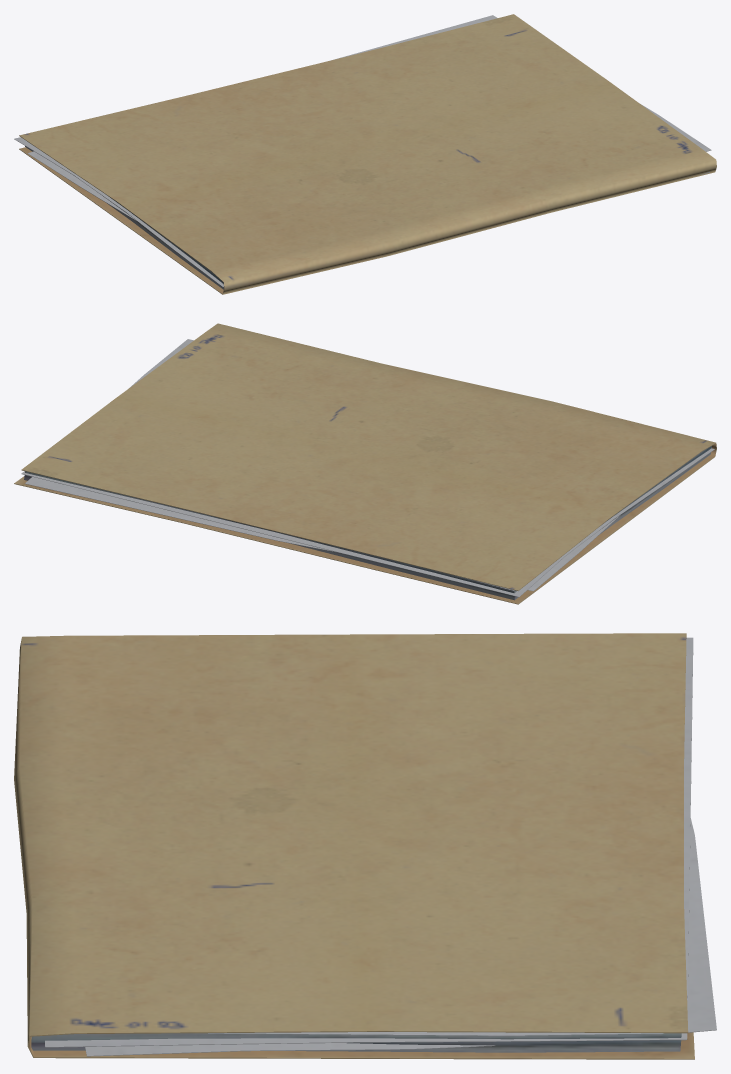
File: SM_Folder_Stack_01c.fbx
3 views of the same model, one above another, from view 1: azimuth 30°, elevation 25°; view 2: azimuth 150°, elevation 25°; view 3: azimuth 270°, elevation 25° (orthographic). The views are drawn at different scales.
Parts seen in each view (by area): view 1: SM_Folder_Stack_01c_LOD0; view 2: SM_Folder_Stack_01c_LOD0; view 3: SM_Folder_Stack_01c_LOD0.
Part boxes in pixels (box(x1,y1,x2,y2)): SM_Folder_Stack_01c_LOD0: box(14, 14, 716, 294); SM_Folder_Stack_01c_LOD0: box(14, 323, 716, 604); SM_Folder_Stack_01c_LOD0: box(14, 633, 716, 1059).
Size of the model in its own units: 30.96 by 22.17 by 0.8825.
